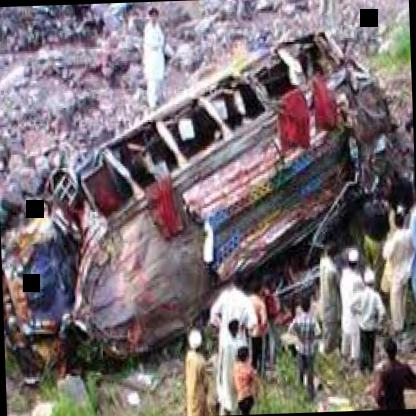accident: (0, 13, 409, 389)
